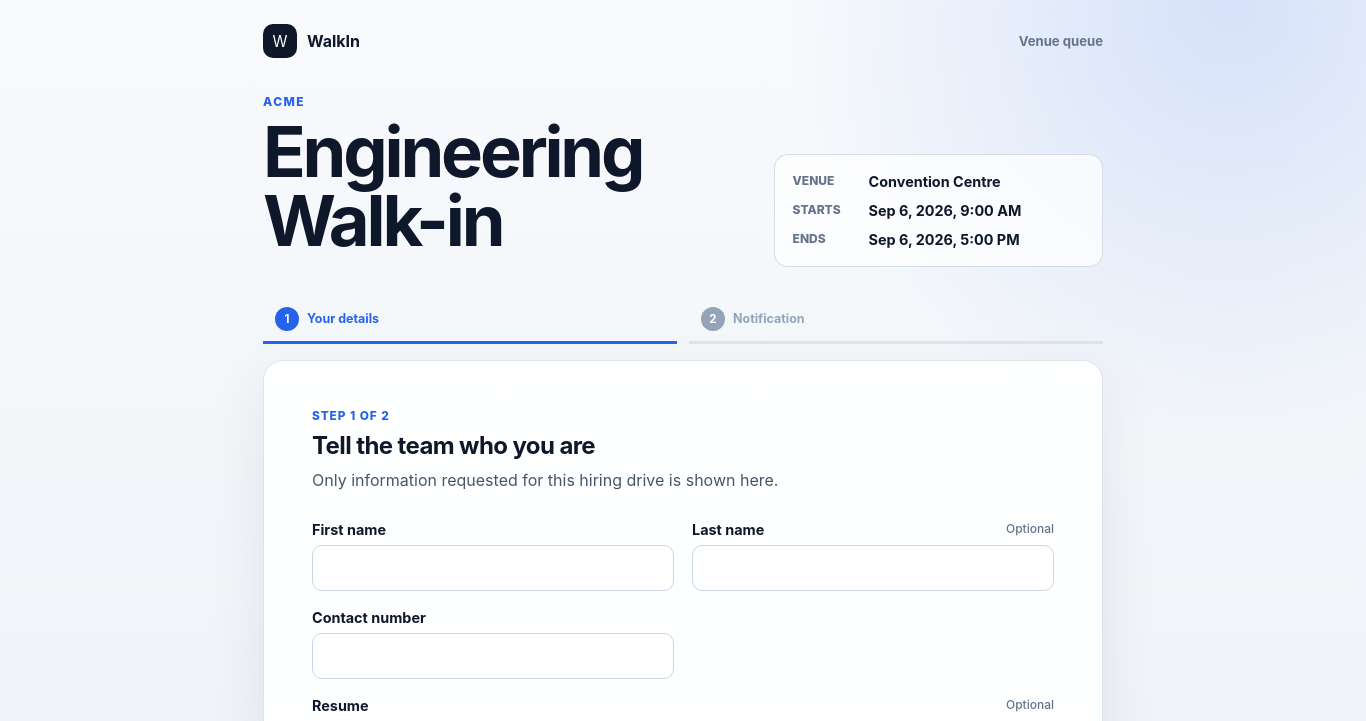
Test: PublicRegistrationPage › keeps candidate input when backend submission fails
This screenshot has width=1366, height=721.
Check: the heading "Engineering Walk-in" is shown, box [263,109,642,263]
Type "Asha" into the field labelled "First name" at (493, 568), box [312,545,674,591]
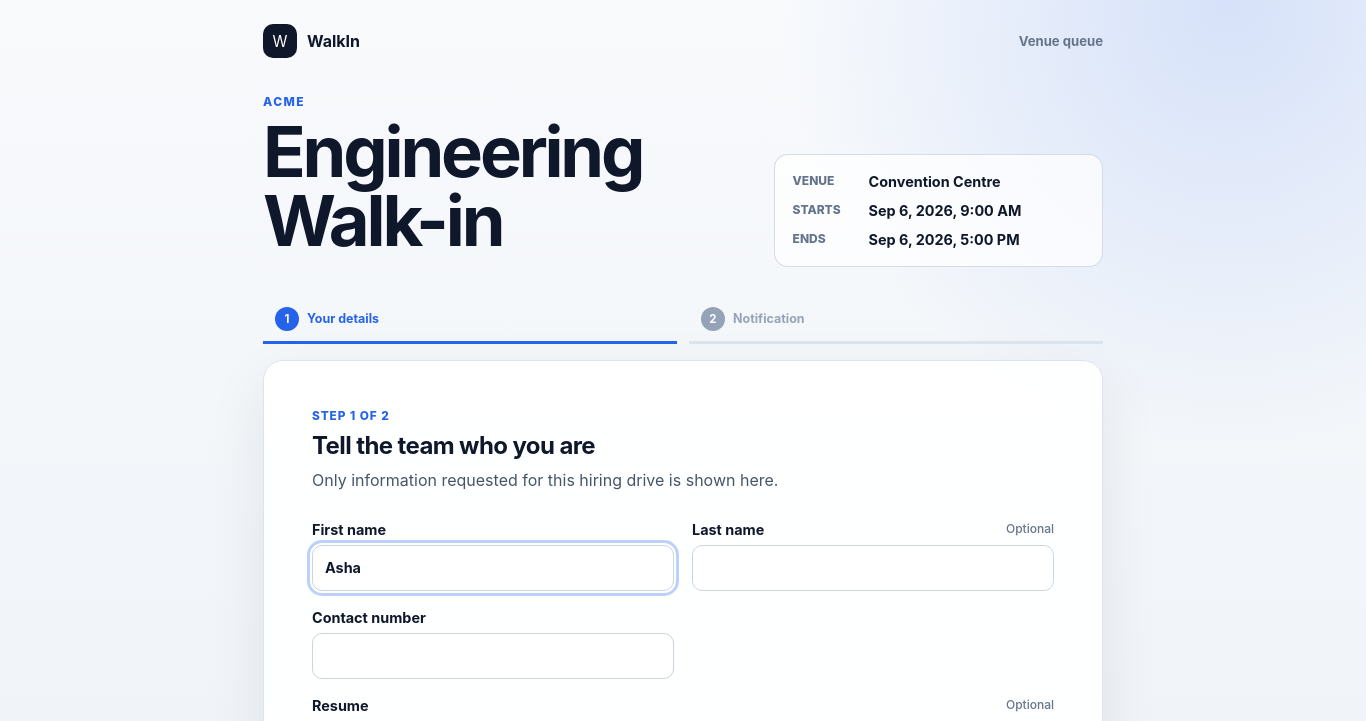
Type "9876543210" into the field labelled "Contact number" at (493, 656), box [312,633,674,679]
(page scrolled)
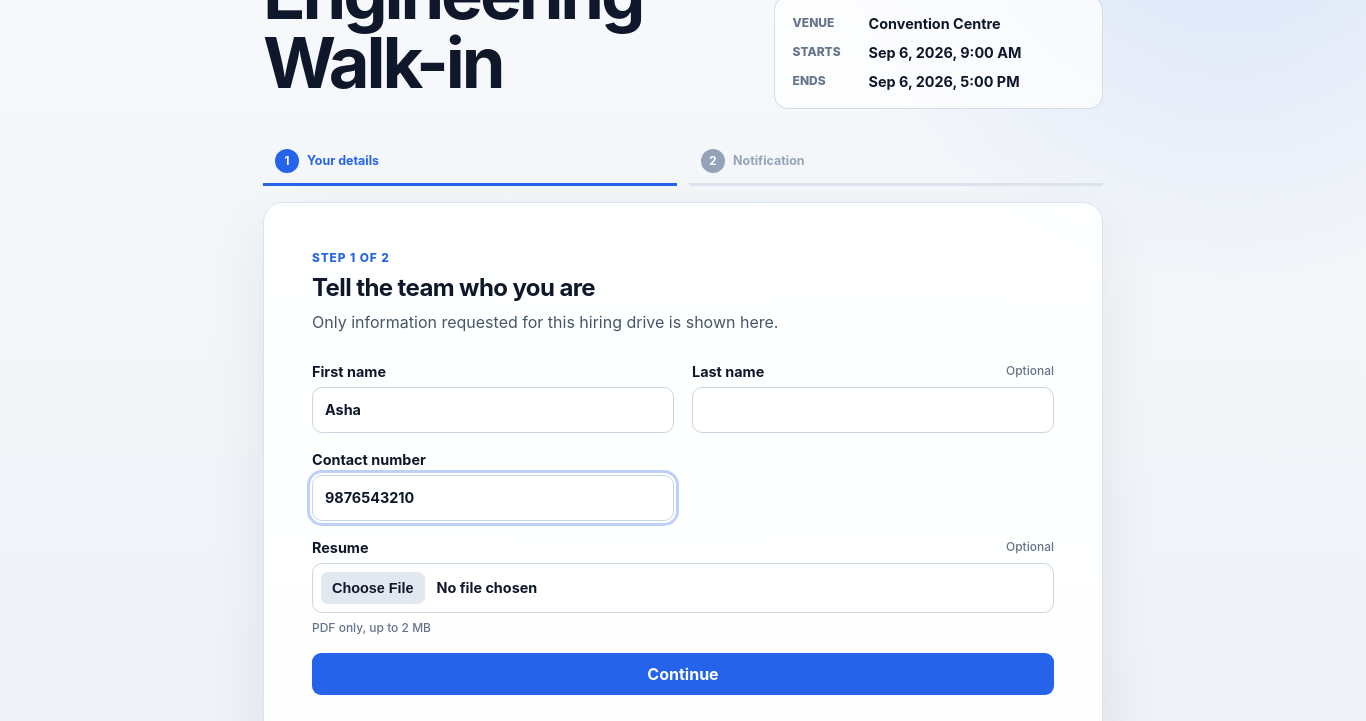
Click the button "Continue" at (683, 674), box [312,653,1054,695]
(page scrolled)
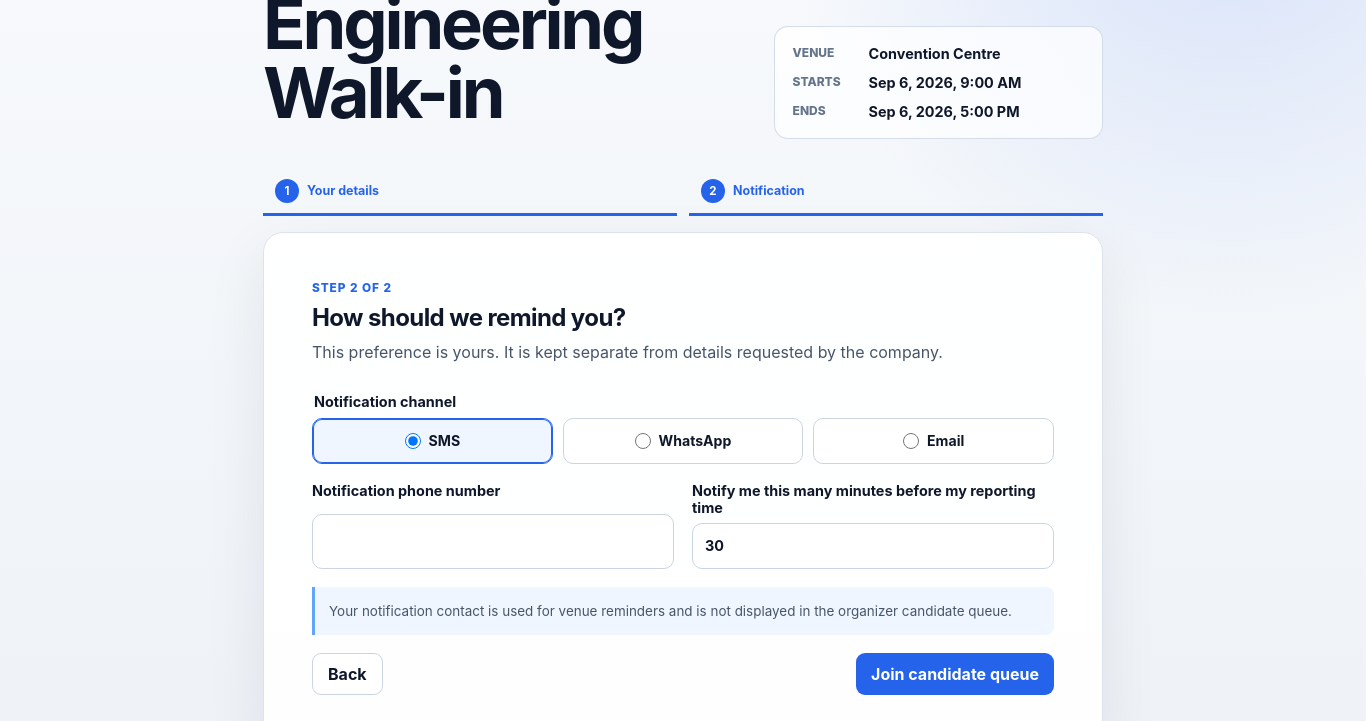
Type "9876543211" into the field labelled "Notification phone number" at (493, 542), box [312,514,674,569]
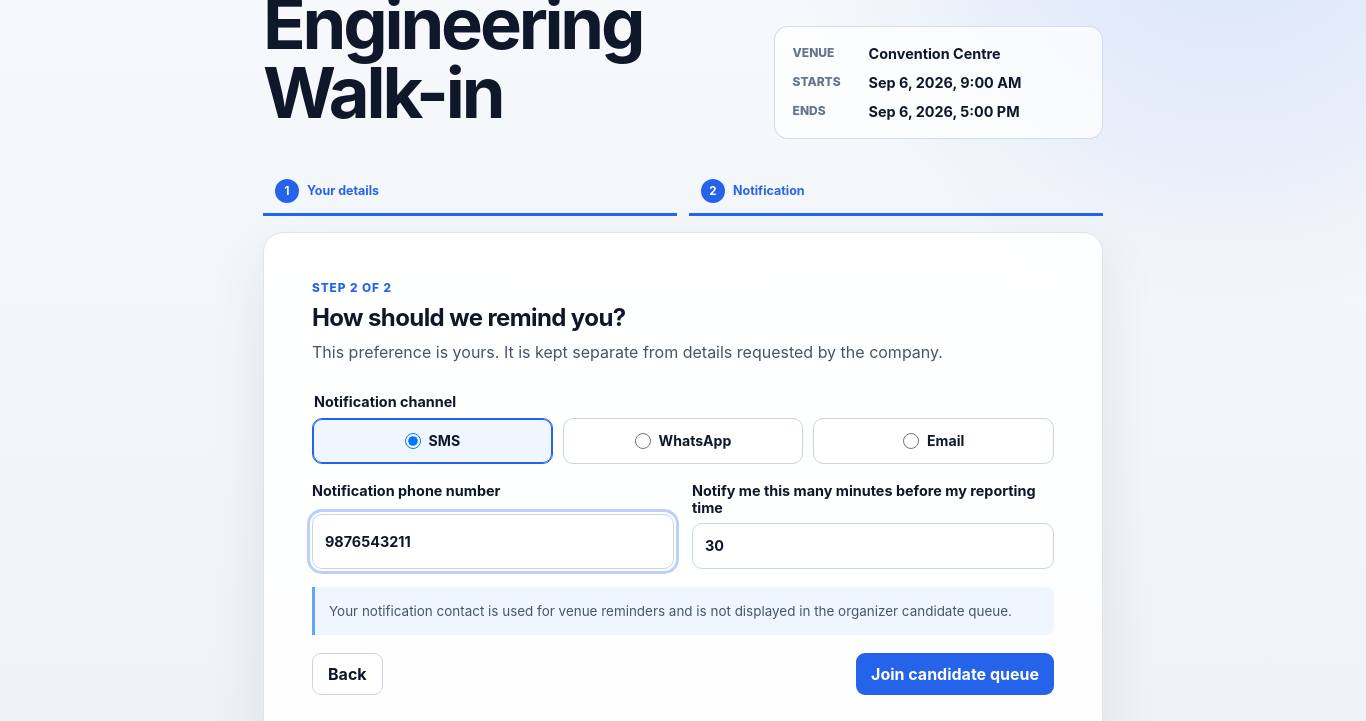
Click the button "Join candidate queue" at (955, 674), box [856,653,1054,695]
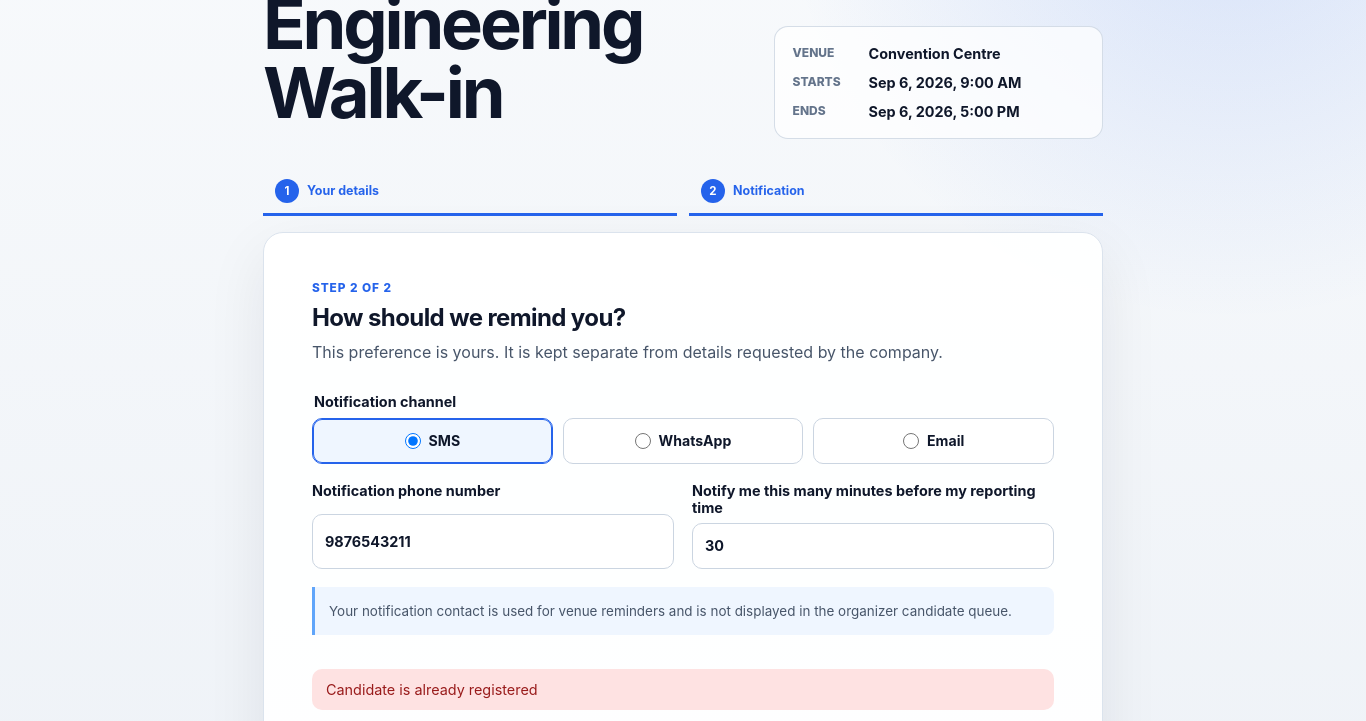
Check: the message reads "Candidate is already registered", box [326,681,538,698]
